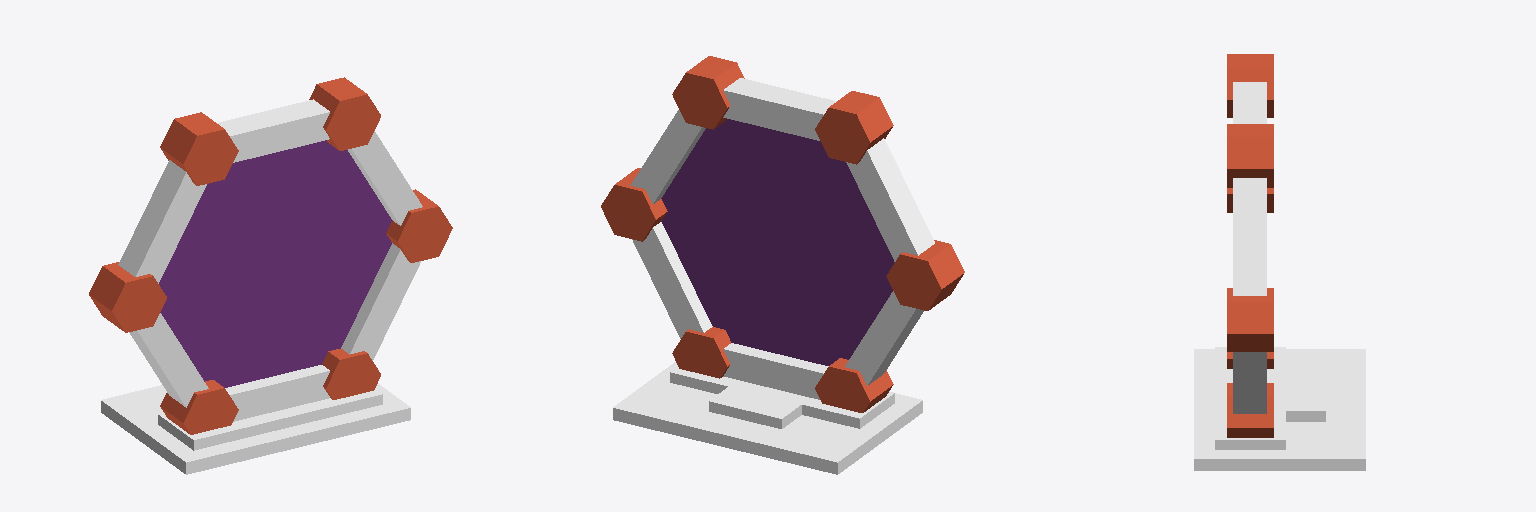
File: portal.obj
3 renders of one model, left to right at view 1: azimuth 30°, elevation 25°; view 2: azimuth 150°, elevation 25°; view 3: azimuth 270°, elevation 25°, orthographic.
Visible parts, largest first — view 1: portal; view 2: portal; view 3: portal.
Boxes of the visible parts, x1=… form: portal: x1=89, y1=77, x2=452, y2=474; portal: x1=601, y1=56, x2=964, y2=474; portal: x1=1194, y1=54, x2=1365, y2=470.
Bounding box in the file's own units: 15.21 × 13.65 × 6.61.